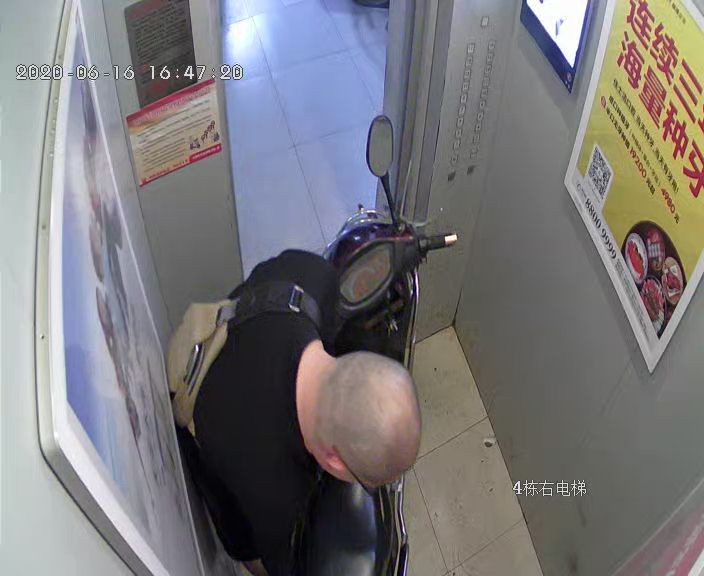Electric-bicycle: (313, 116, 458, 576)
